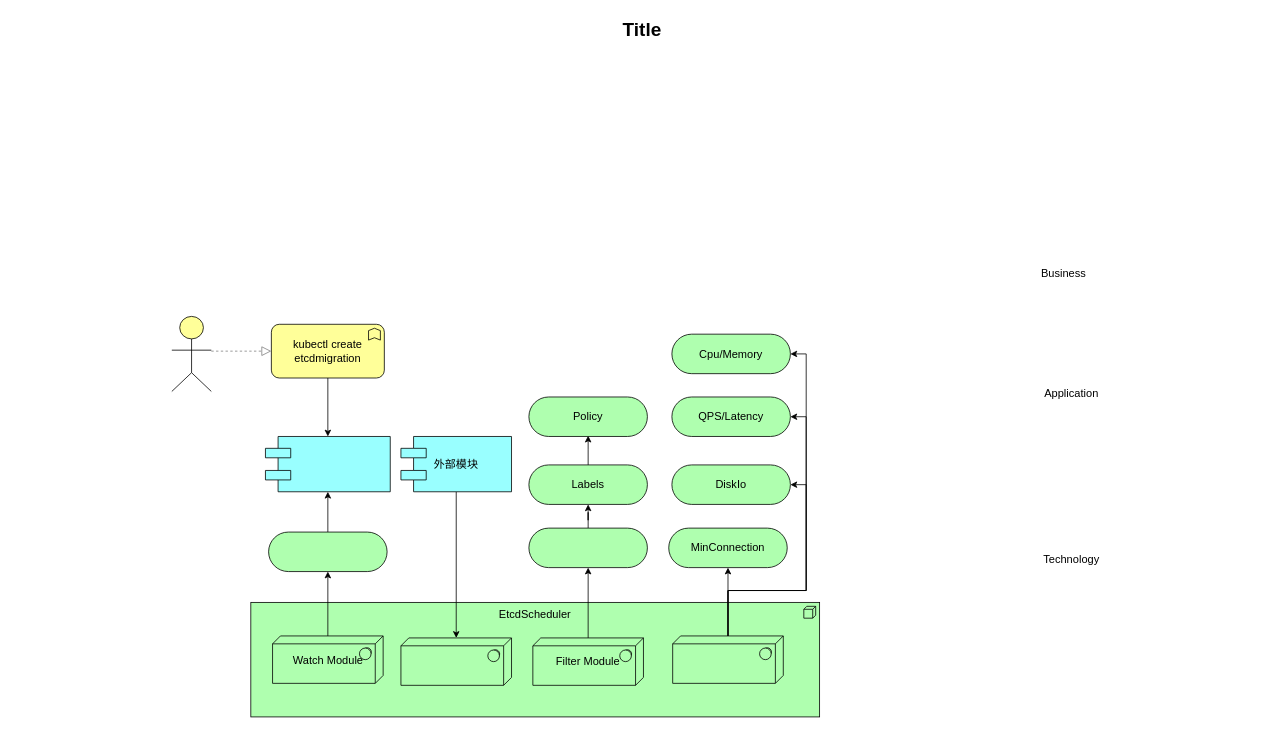
Image size: 1283x731. Some labels were removed from this diagram. The shapes that lost their labels are listed below. From the top down, each one's centre as x and y in pixels, then its label:
At point (327, 464): "ApiServer".
At point (327, 551): "EtcdMigration".
At point (587, 547): "Healthy".
At point (456, 661): "HTTP Module".
At point (727, 659): "Rank Module".
